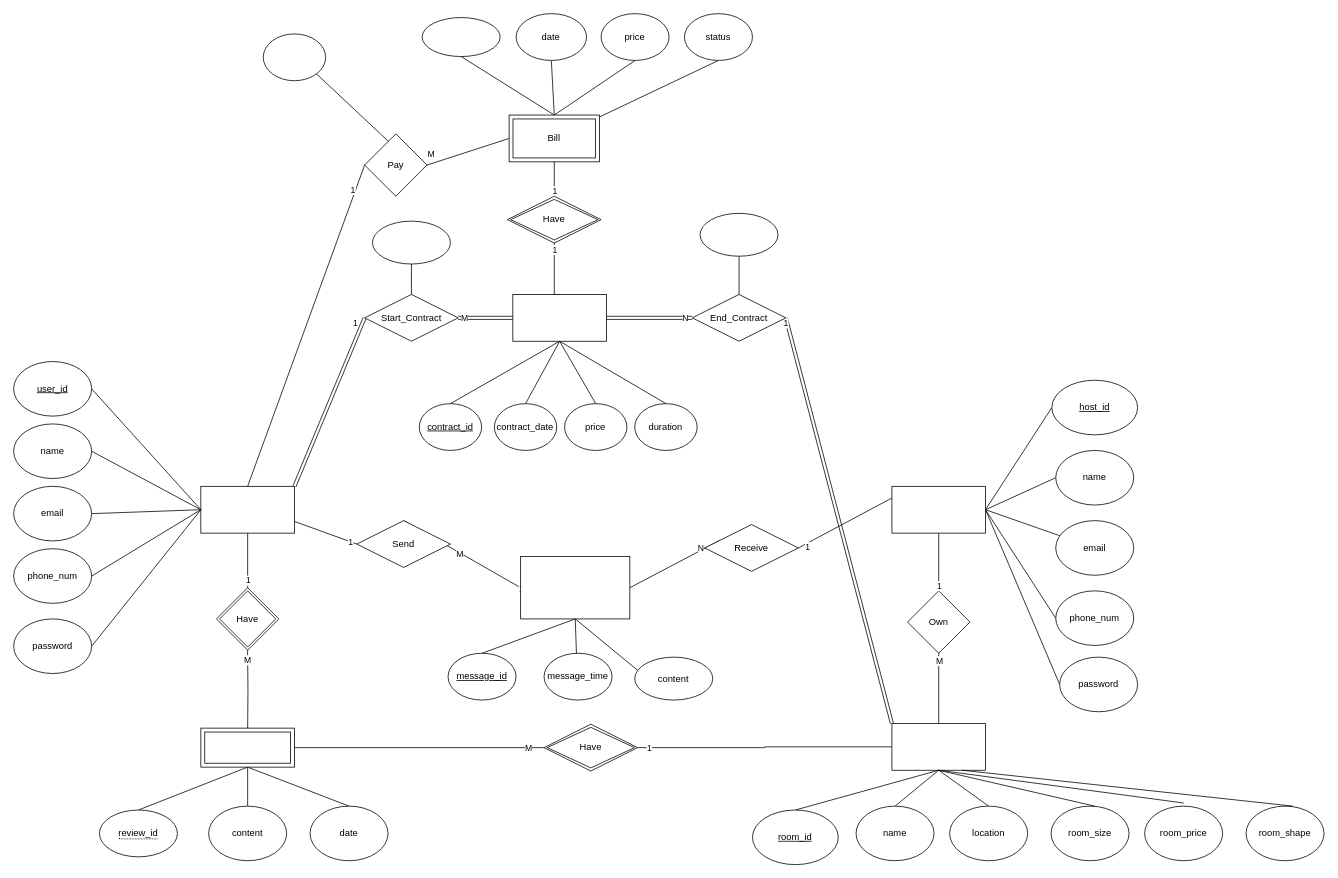
This 1338x878 diagram has some shape labels left out. Each missing label, with the box of its shape:
bill_id: (421, 17, 500, 57)
Contract: (512, 294, 606, 341)
end_time: (699, 213, 778, 256)
Host: (891, 486, 986, 533)
Message: (520, 556, 630, 619)
pay_method: (262, 33, 326, 81)
Review: (200, 727, 294, 767)
Room: (891, 723, 986, 770)
start_time: (372, 220, 450, 264)
User: (200, 486, 294, 533)
